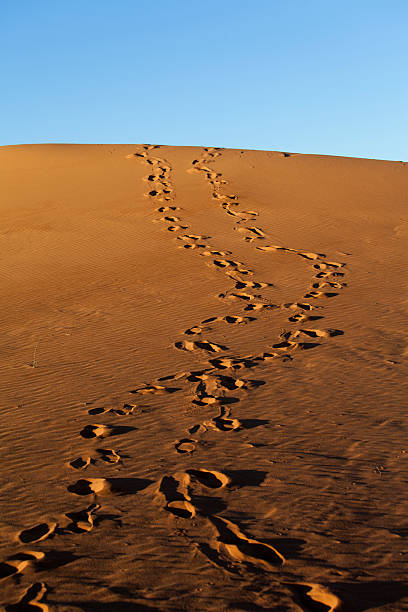animal_foot_print: (154, 0, 407, 611), (208, 515, 284, 570), (156, 472, 195, 518), (288, 583, 343, 611), (67, 477, 151, 495), (0, 550, 44, 581), (4, 582, 49, 611), (58, 503, 100, 532), (204, 406, 241, 431), (186, 468, 230, 488), (17, 522, 56, 543), (80, 424, 135, 438), (224, 469, 266, 485), (174, 340, 227, 352), (88, 403, 136, 415), (210, 357, 258, 368), (130, 384, 180, 394), (292, 328, 343, 337), (96, 448, 120, 463), (217, 376, 244, 388), (175, 438, 196, 453), (288, 313, 323, 322), (68, 456, 92, 469), (211, 359, 241, 368), (304, 290, 337, 298), (245, 303, 275, 310), (272, 341, 295, 349), (245, 227, 264, 236), (167, 224, 187, 231), (224, 315, 242, 322), (299, 252, 318, 258), (185, 327, 201, 334), (214, 260, 228, 267), (201, 251, 224, 254), (237, 281, 245, 288), (203, 318, 217, 322), (148, 175, 155, 180)
